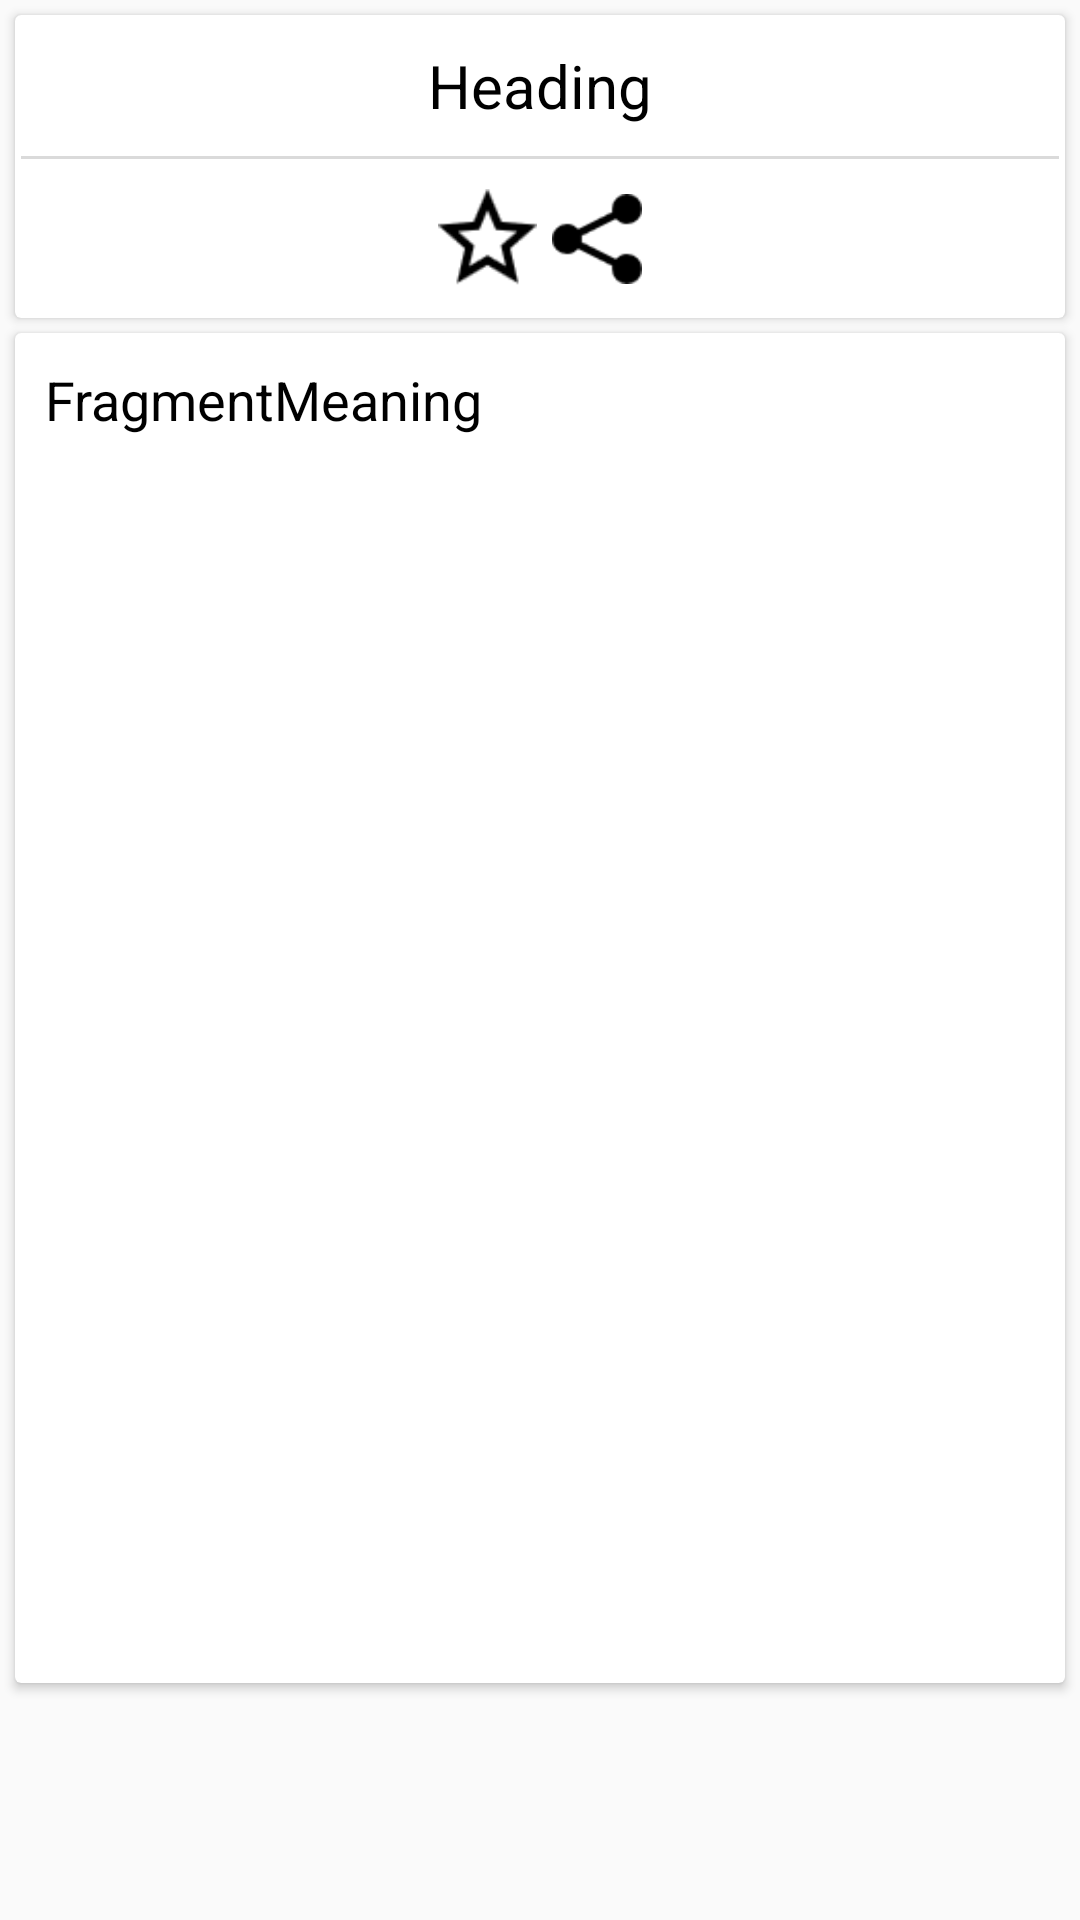

Icons on this 1080x1920 Android screen, each with its box as (x1, y1, x2, y2):
share: (552, 194, 642, 284)
